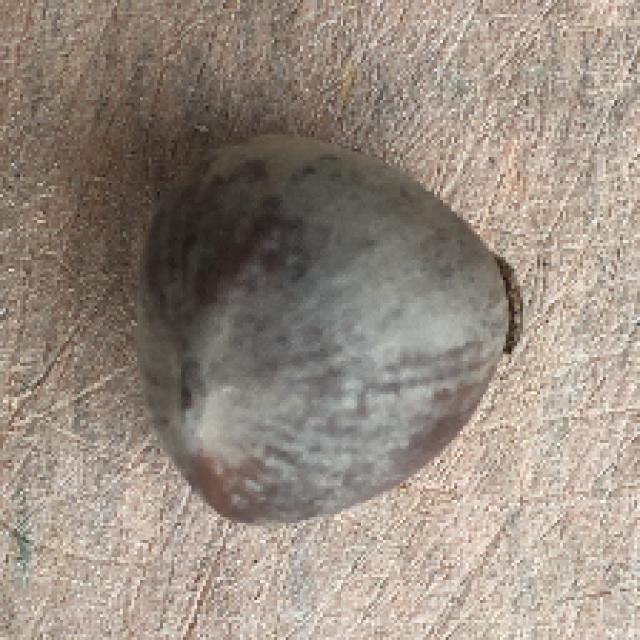damagedHazelnut: (145, 123, 518, 532)
